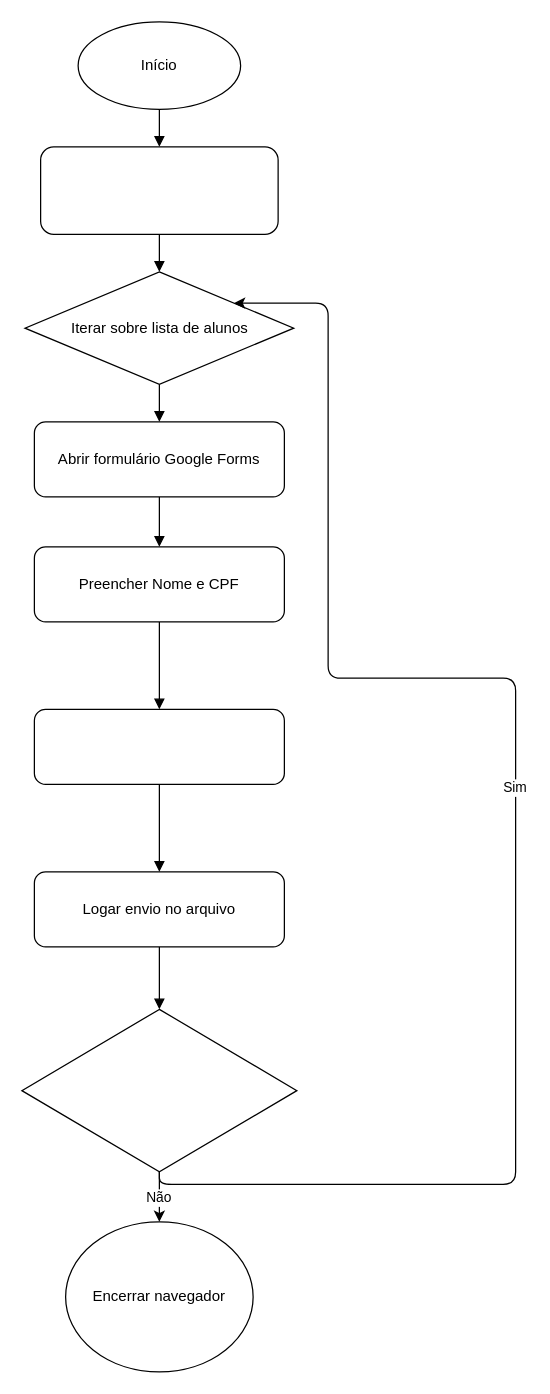
This 550x1394 diagram has some shape labels left out. Each missing label, with the centre of its shape:
'Enviar outra resposta' está visível?: the point at 159,1090
Abrir navegador Chrome: the point at 158,190
Clicar em 'Enviar': the point at 158,746
